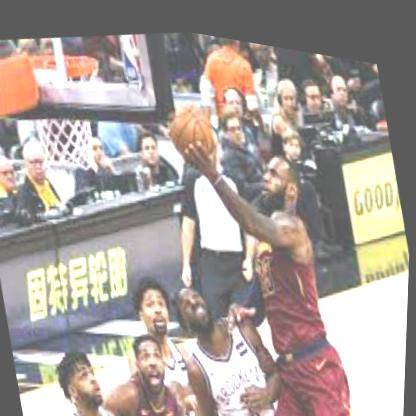basketball: (163, 90, 220, 163)
rim: (20, 40, 99, 91)
